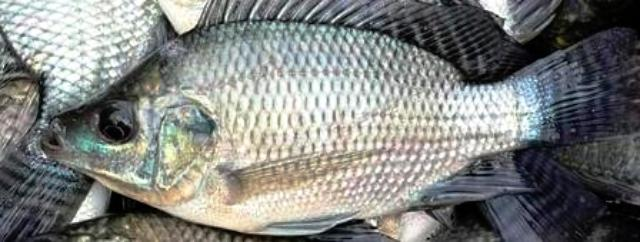Columnaris Disease: (41, 0, 639, 236)
